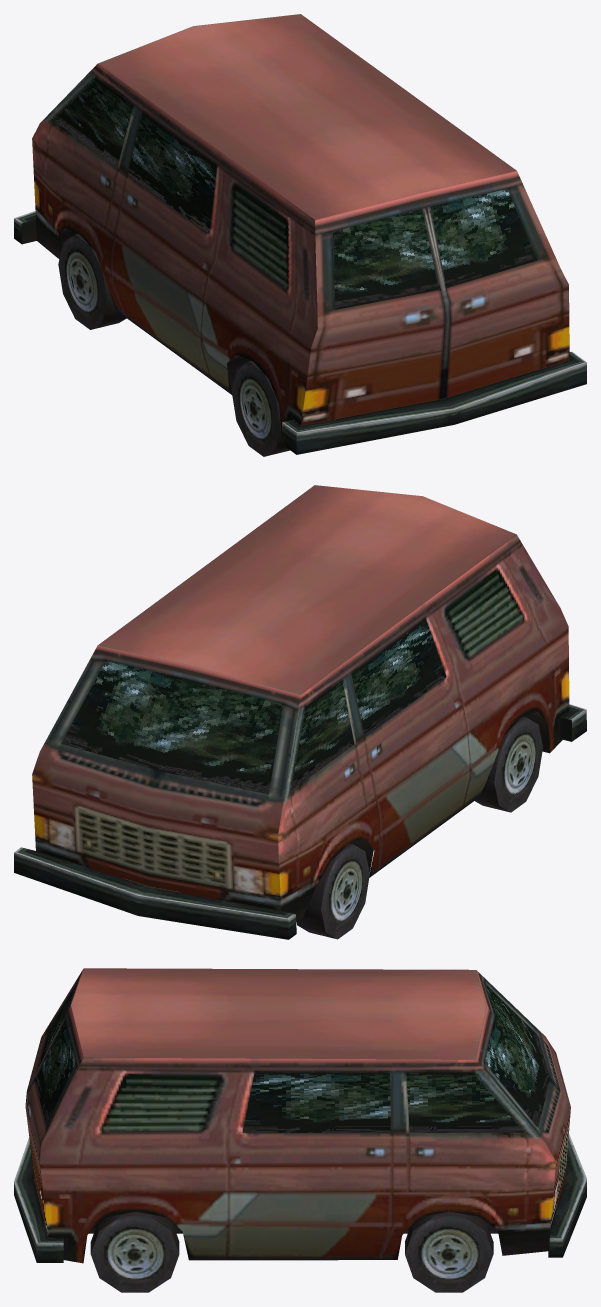
The model's file is CIVVAN_V1.glb.
The picture shows the model from 3 angles, top to bottom: view 1: azimuth 30°, elevation 25°; view 2: azimuth 150°, elevation 25°; view 3: azimuth 270°, elevation 25°; orthographic projection. The views are drawn at different scales.
Visible parts, largest first — view 1: CIVVAN_V1; view 2: CIVVAN_V1; view 3: CIVVAN_V1.
Part boxes in pixels (<box>): CIVVAN_V1: <box>14,14,586,456</box>; CIVVAN_V1: <box>14,485,586,939</box>; CIVVAN_V1: <box>14,968,586,1292</box>.
Size of the model in its own units: 2.64 by 2.2 by 4.98.
Materials: 2 (2 with a texture image).
